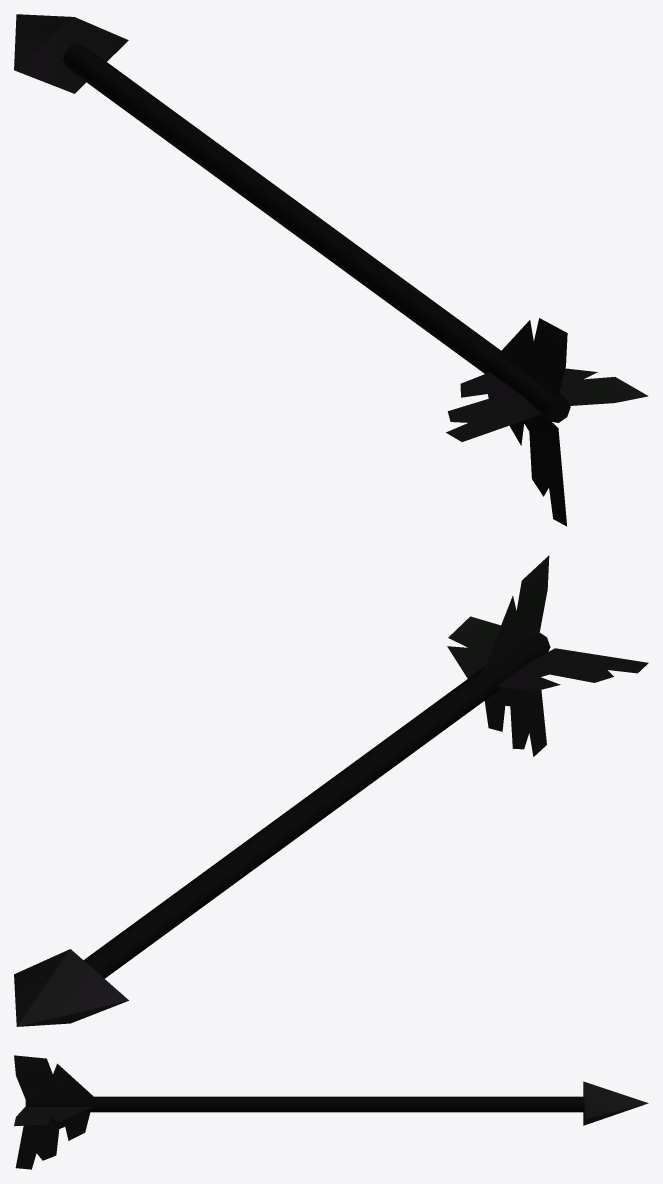
File: Light.fbx
3 renders of one model, top to bottom at view 1: azimuth 30°, elevation 25°; view 2: azimuth 150°, elevation 25°; view 3: azimuth 270°, elevation 25°, orthographic. The views are drawn at different scales.
Visible parts, largest first — view 1: arrow; view 2: arrow; view 3: arrow.
Part boxes in pixels (x1,y1,x2,y2): arrow: (14,14,648,526); arrow: (14,555,648,1026); arrow: (14,1055,648,1169).
Size of the model in its own units: 35.46 by 35.6 by 180.
